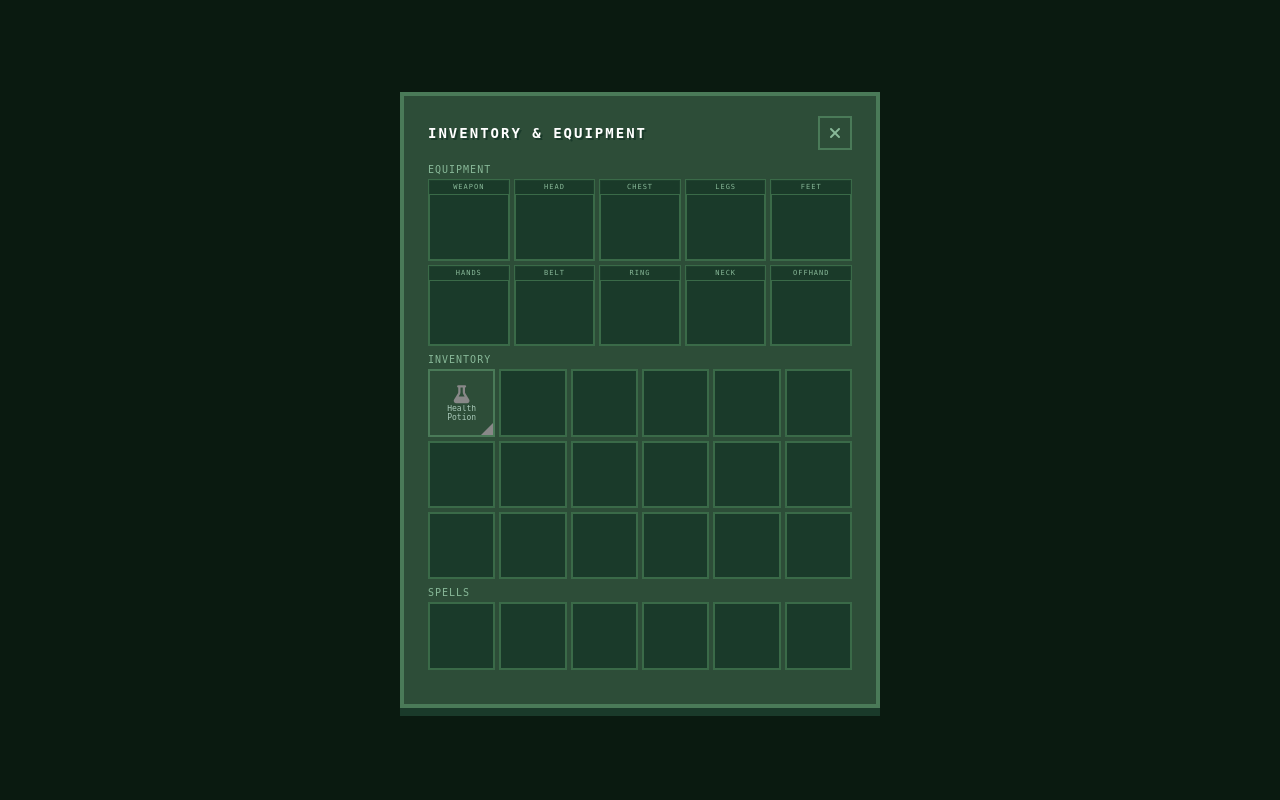
Test: InventoryDialog › consume confirmation dialog › confirms consume applies heal and removes item from inventory
The width and height of the screenshot is (1280, 800).
Click the element showing "Health Potion" at (462, 403), box [428,369,495,437]
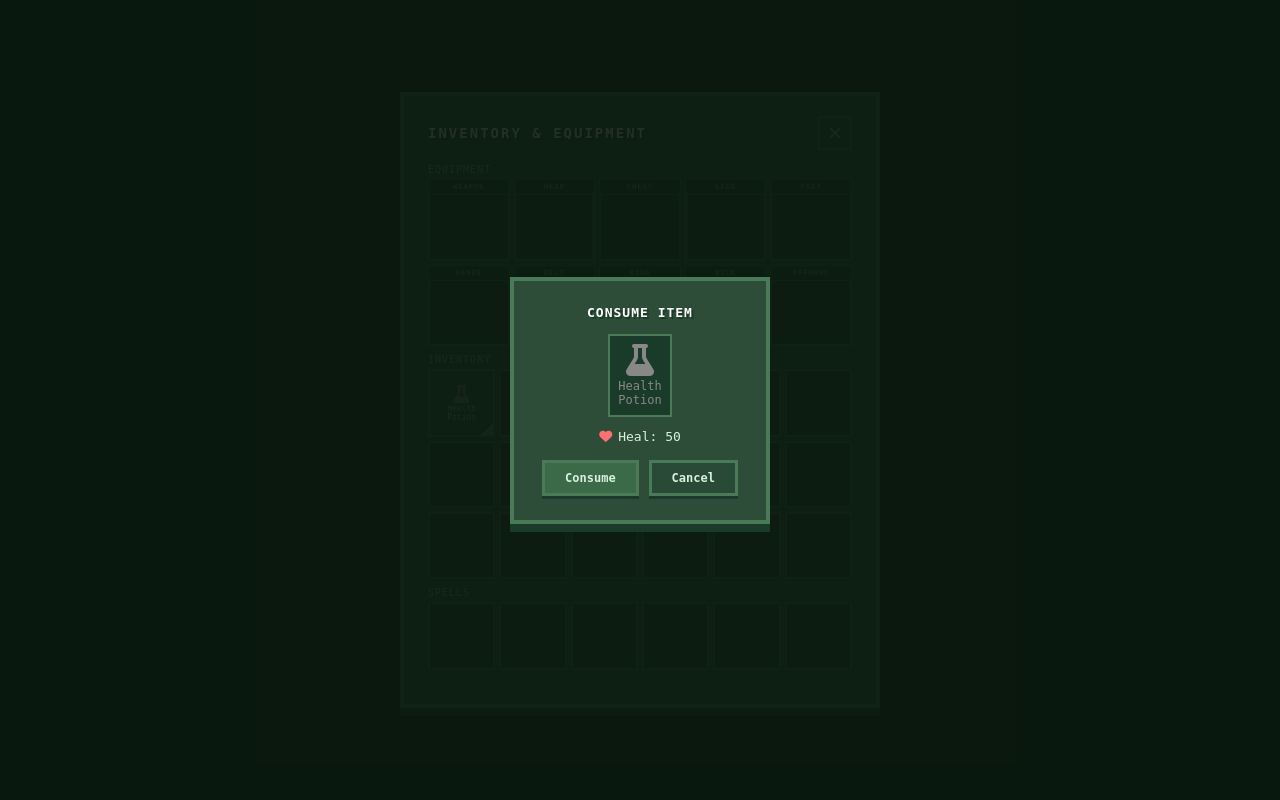
Click the button "Consume" at (590, 478), box [542,460,639,496]
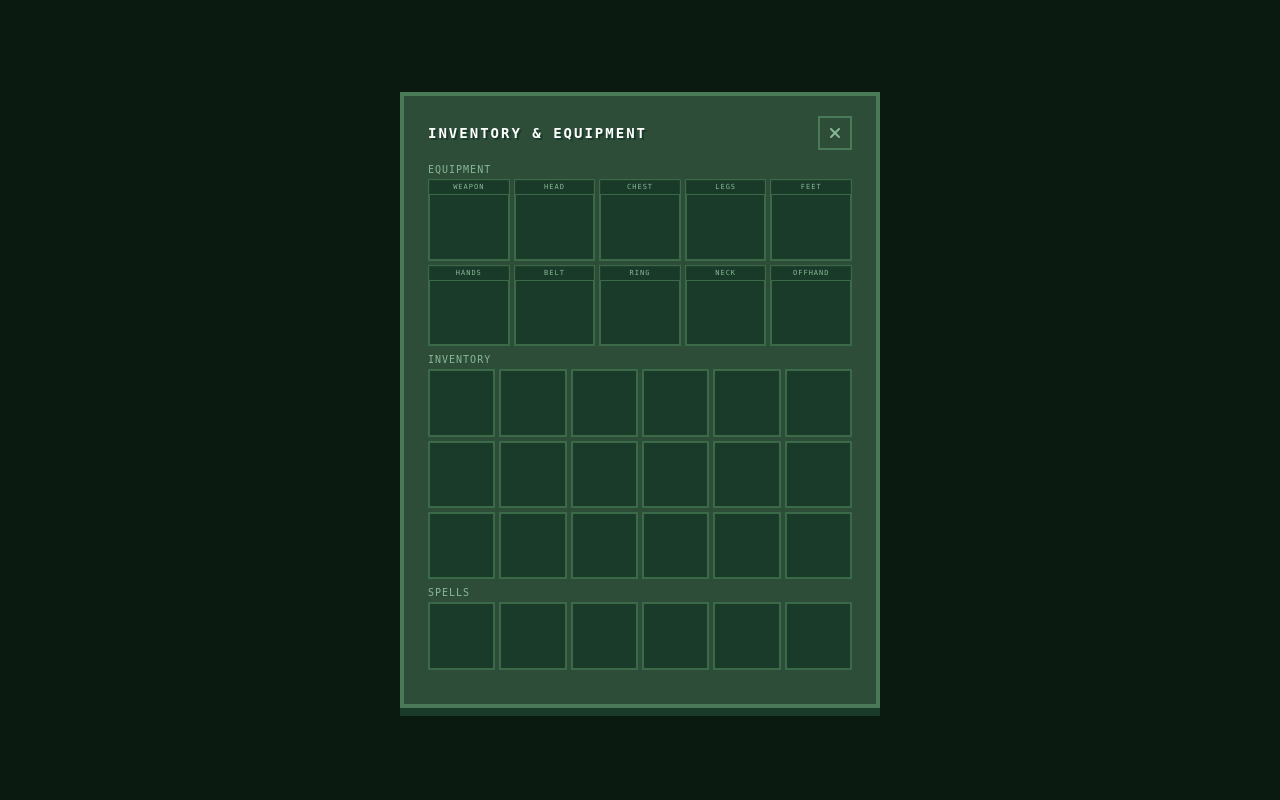
expect the heading "Consume Item" is gone: met
